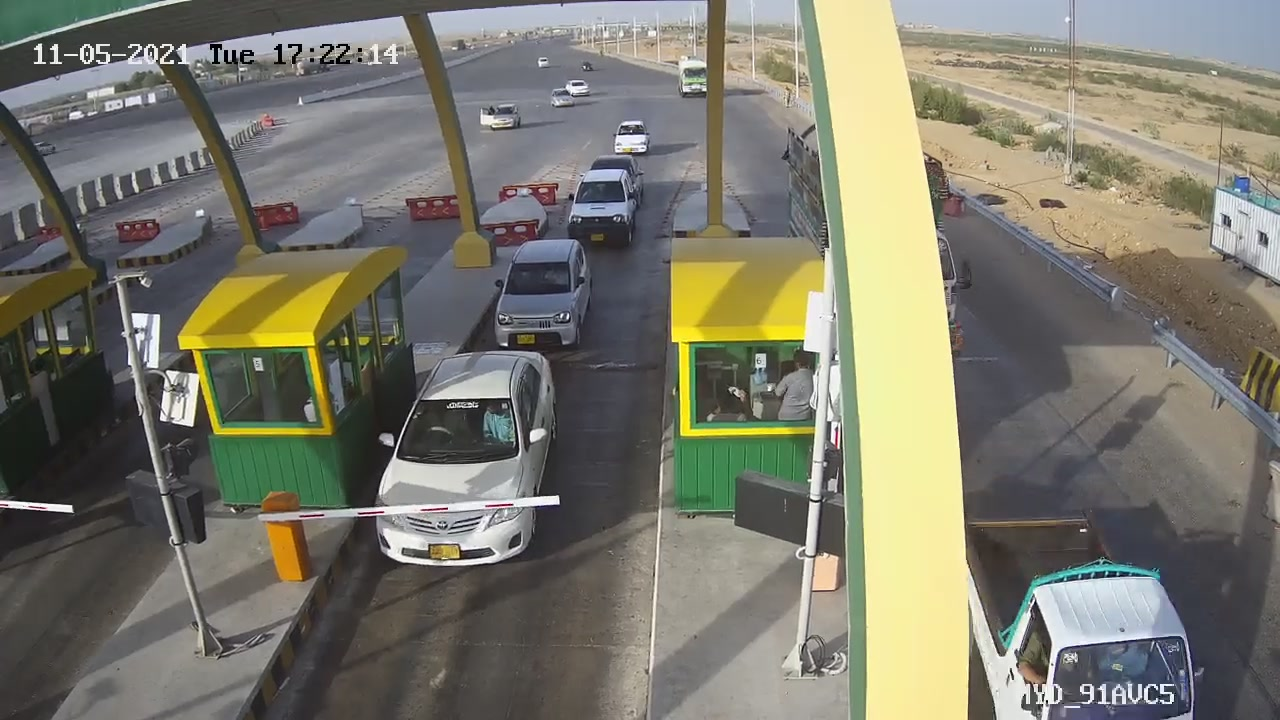F1: (363, 335, 583, 587), (473, 227, 612, 370)
